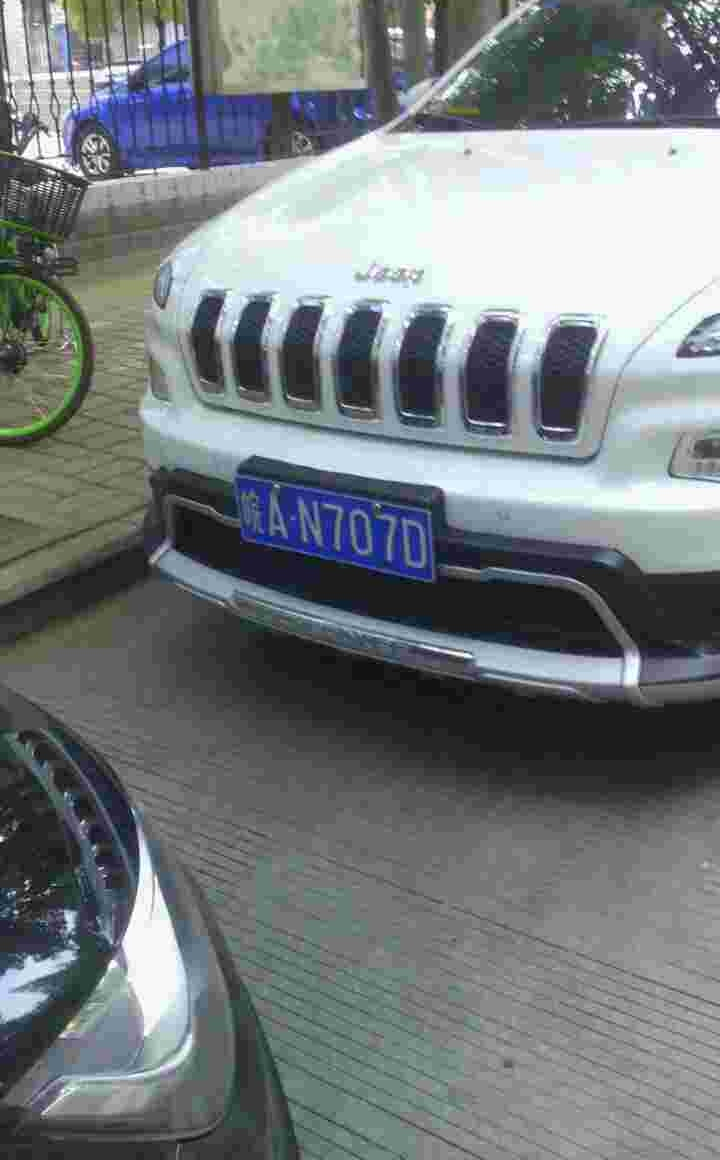license_plate: (229, 463, 441, 572)
